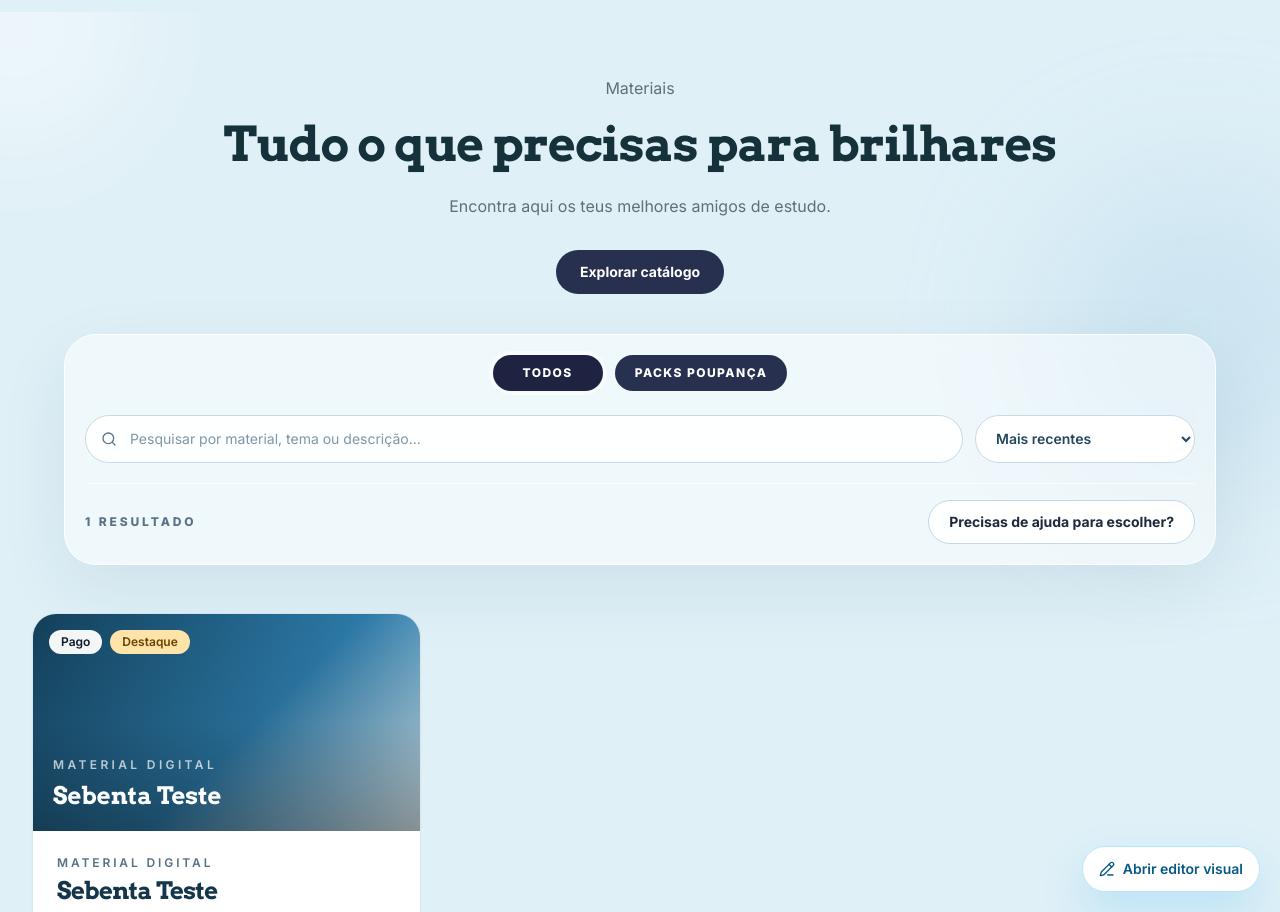
it: Products › shows editor controls to an admin on the public materials page
This screenshot has width=1280, height=912.
Click the button "Abrir editor visual": (1171, 869) [1082,846,1260,892]
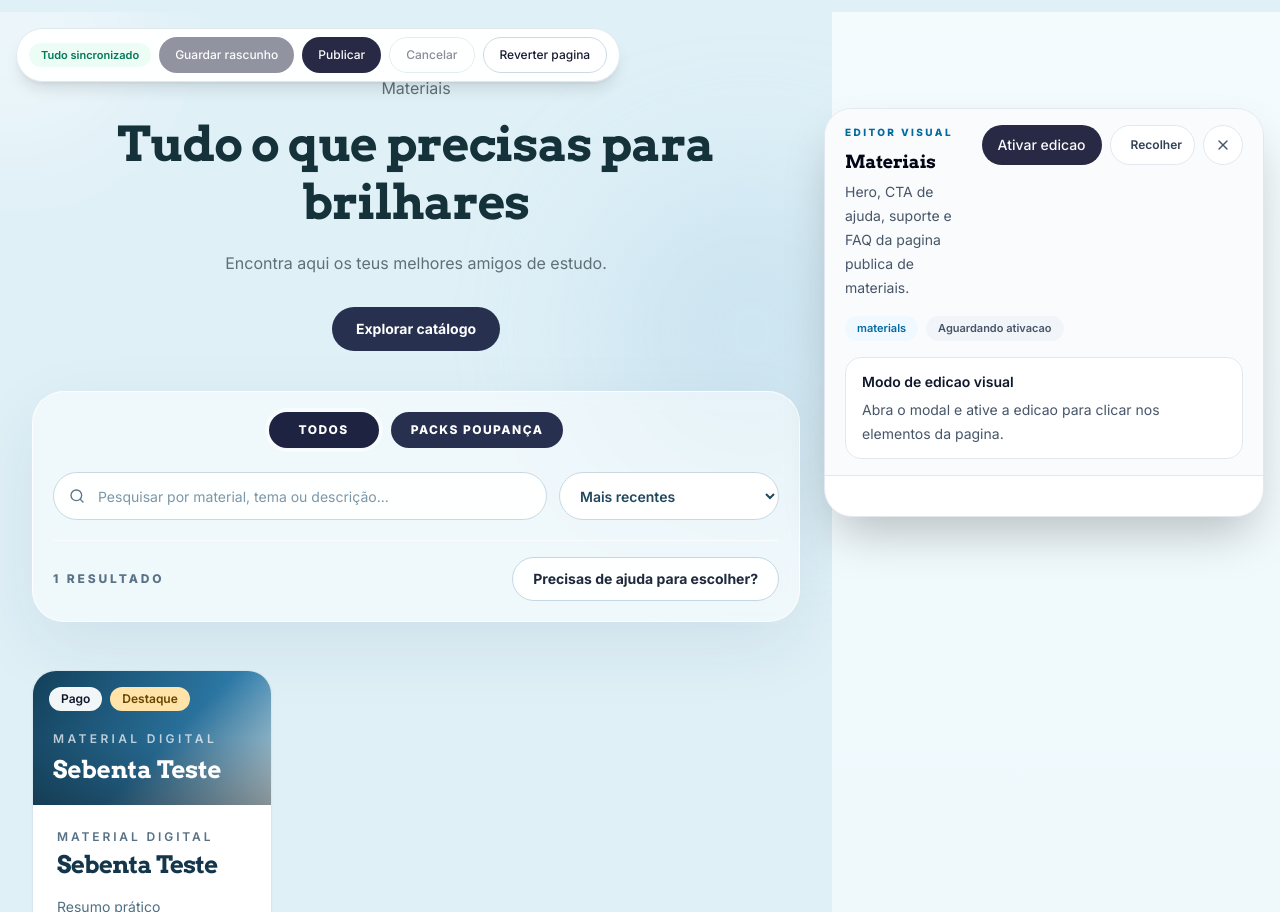
Check: the button "Ativar edicao" is shown
Click the button "Ativar edicao": (1042, 145) [982,125,1102,165]
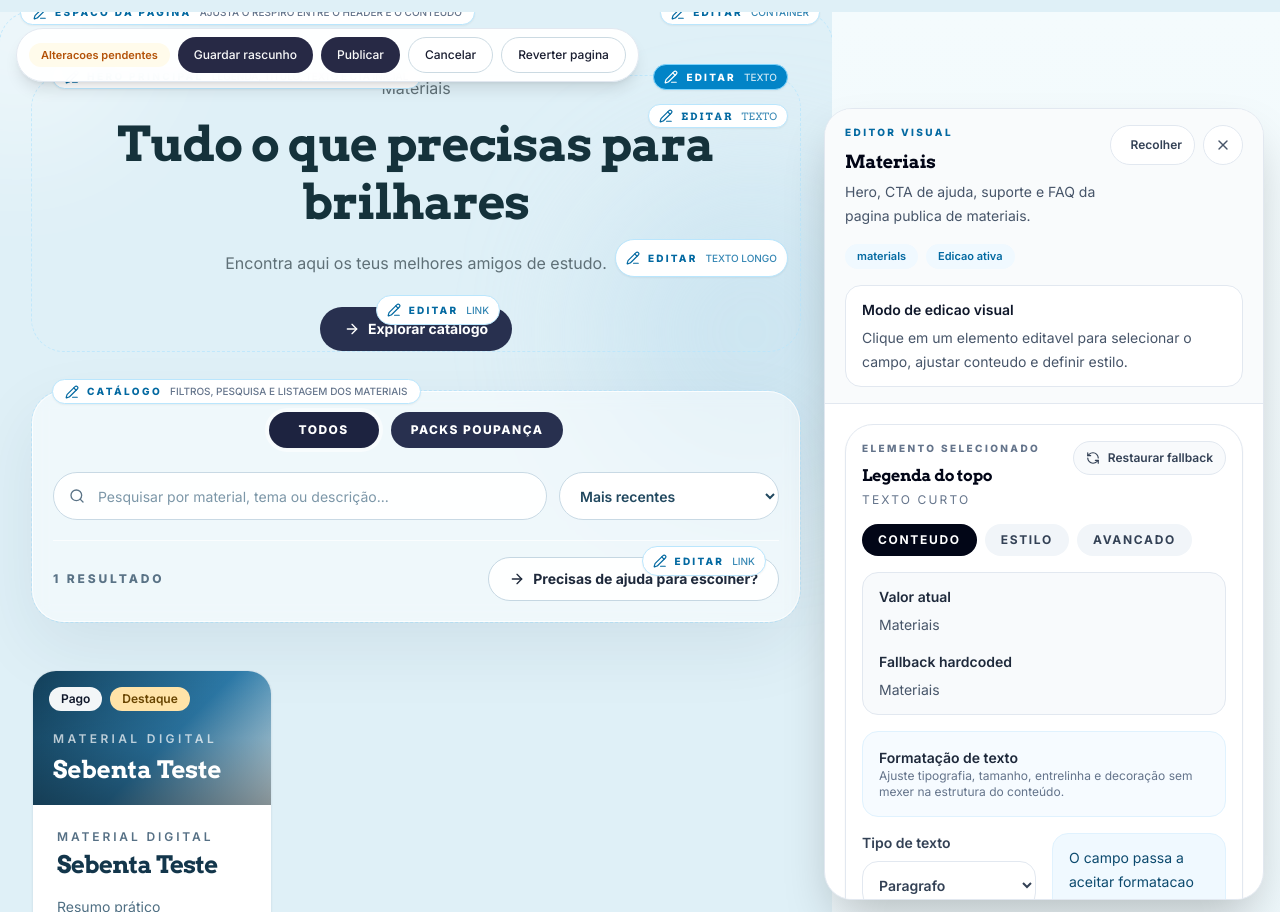
Click the button "Editar Texto Tudo o que precisas para brilhares": (416, 174) [32,116,800,231]
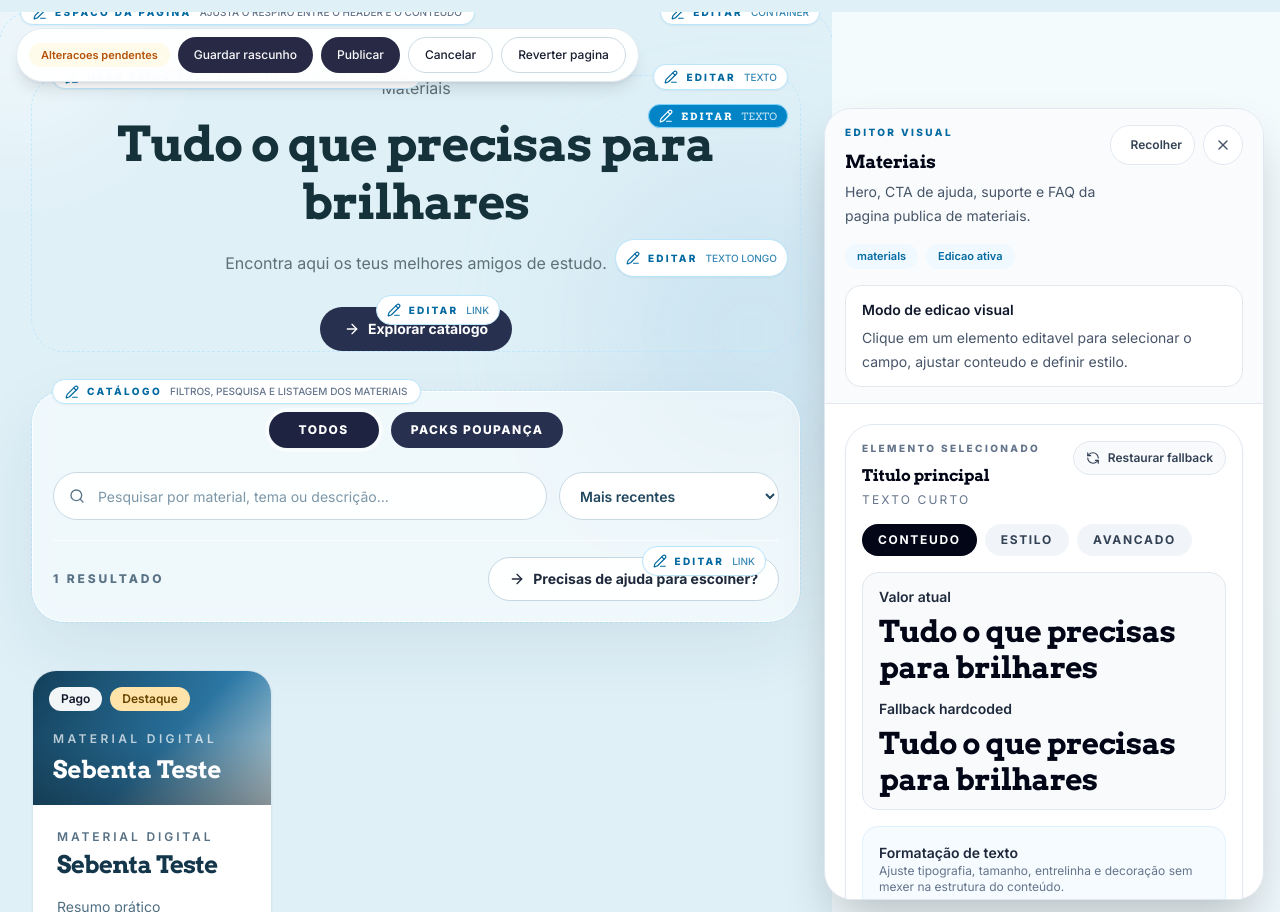
Check: the text "Elemento selecionado" is shown, box [862,440,1040,456]
Click the button "Explorar catálogo Editar Link": (416, 329) [320,307,512,351]
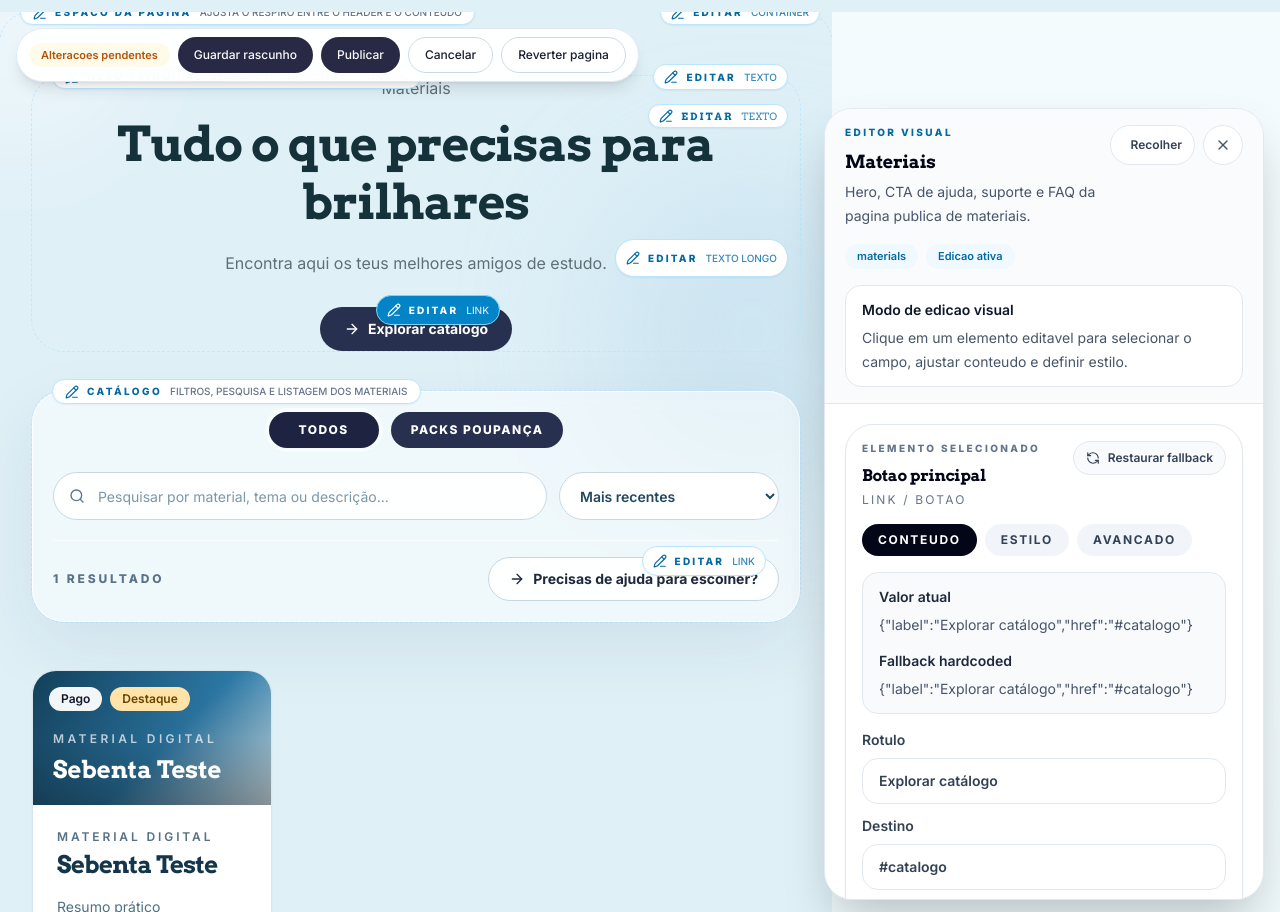
Check: the heading "Botao principal" is shown, box [862,466,986,484]
Check: the field labelled "Rotulo" is shown, box [862,758,1226,804]
Check: the field labelled "Destino" is shown, box [862,844,1226,890]
